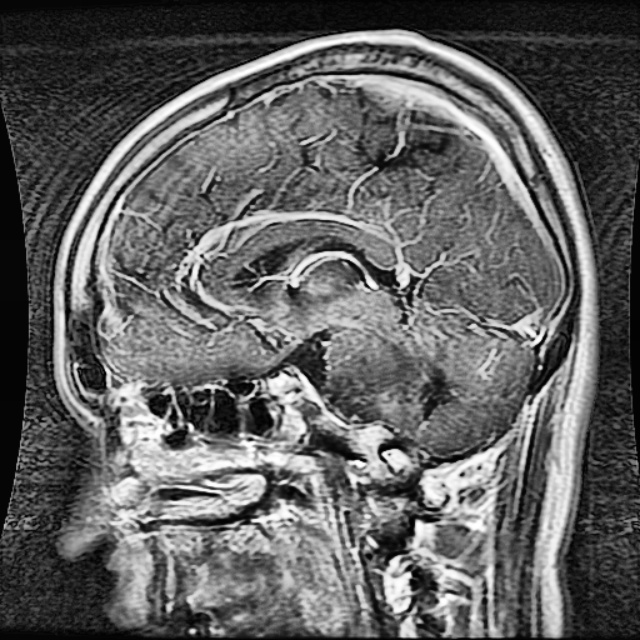Meningioma: (329, 333, 418, 413)
